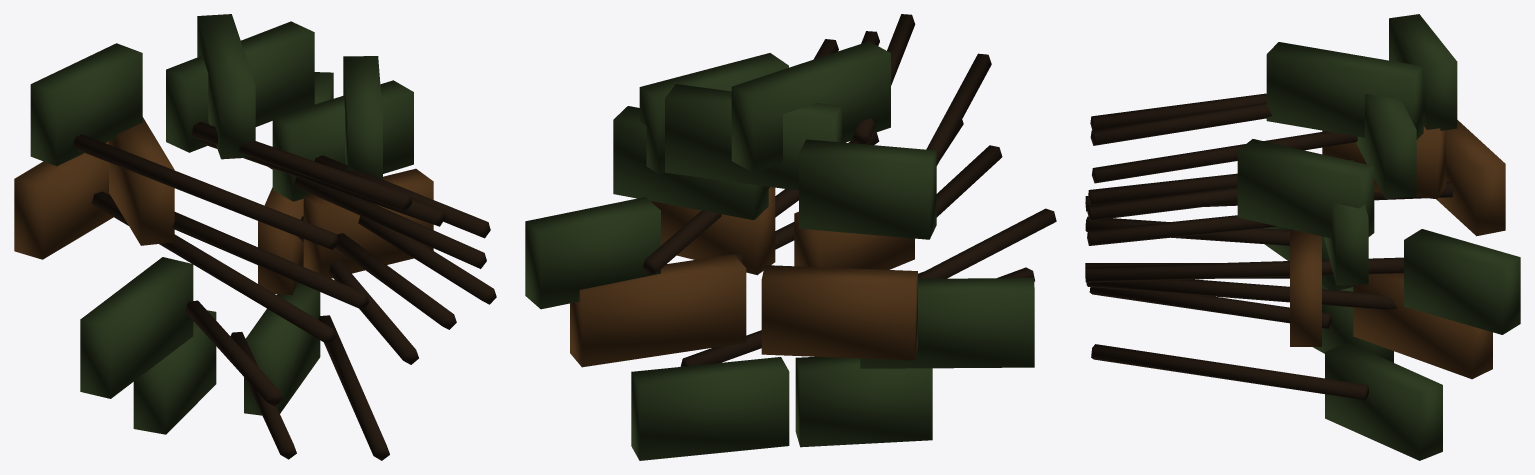
File: prop_preview_blight_shrub_t1.glb
3 views of the same model, side by side, from view 1: azimuth 30°, elevation 25°; view 2: azimuth 150°, elevation 25°; view 3: azimuth 270°, elevation 25° (orthographic). The views are drawn at different scales.
Parts seen in each view (by area): view 1: matted_leaf_5, matted_leaf_3, matted_leaf_2, matted_leaf_4, matted_leaf_1, matted_leaf_11, matted_leaf_6, matted_leaf_7, matted_leaf_12, matted_leaf_0, crooked_stem_3, matted_leaf_10 (+14 smaller); view 2: matted_leaf_8, matted_leaf_7, matted_leaf_4, matted_leaf_3, matted_leaf_11, matted_leaf_6, matted_leaf_5, matted_leaf_9, matted_leaf_2, matted_leaf_1, matted_leaf_0, matted_leaf_12 (+8 smaller); view 3: matted_leaf_11, matted_leaf_10, matted_leaf_9, matted_leaf_7, matted_leaf_8, matted_leaf_4, matted_leaf_3, matted_leaf_2, crooked_stem_7, crooked_stem_9, crooked_stem_8, matted_leaf_0 (+14 smaller).
Part boxes in pixels (bbox=[...]): matted_leaf_5: bbox=[80, 257, 193, 398]; matted_leaf_3: bbox=[30, 43, 142, 166]; matted_leaf_2: bbox=[166, 21, 314, 152]; matted_leaf_4: bbox=[14, 141, 113, 259]; matted_leaf_1: bbox=[272, 80, 413, 201]; matted_leaf_11: bbox=[197, 14, 255, 159]; matted_leaf_6: bbox=[133, 310, 216, 434]; matted_leaf_7: bbox=[244, 282, 320, 415]; matted_leaf_12: bbox=[109, 117, 174, 245]; matted_leaf_0: bbox=[303, 168, 433, 278]; crooked_stem_3: bbox=[73, 134, 338, 249]; matted_leaf_10: bbox=[343, 56, 382, 179]; matted_leaf_8: bbox=[570, 254, 746, 367]; matted_leaf_7: bbox=[631, 357, 789, 460]; matted_leaf_4: bbox=[761, 265, 917, 360]; matted_leaf_3: bbox=[799, 139, 936, 239]; matted_leaf_11: bbox=[731, 41, 890, 172]; matted_leaf_6: bbox=[795, 356, 932, 447]; matted_leaf_5: bbox=[860, 278, 1034, 368]; matted_leaf_9: bbox=[525, 197, 660, 309]; matted_leaf_2: bbox=[665, 84, 841, 190]; matted_leaf_1: bbox=[613, 106, 768, 220]; matted_leaf_0: bbox=[650, 187, 775, 275]; matted_leaf_12: bbox=[794, 211, 914, 269]; matted_leaf_11: bbox=[1266, 42, 1423, 139]; matted_leaf_10: bbox=[1237, 139, 1374, 238]; matted_leaf_9: bbox=[1404, 229, 1520, 334]; matted_leaf_7: bbox=[1325, 342, 1442, 460]; matted_leaf_8: bbox=[1353, 273, 1492, 379]; matted_leaf_4: bbox=[1436, 120, 1505, 236]; matted_leaf_3: bbox=[1389, 14, 1457, 130]; matted_leaf_2: bbox=[1356, 94, 1416, 198]; crooked_stem_7: bbox=[1091, 344, 1368, 400]; crooked_stem_9: bbox=[1085, 257, 1403, 282]; crooked_stem_8: bbox=[1086, 279, 1396, 309]; matted_leaf_0: bbox=[1290, 230, 1321, 346].
Bounding box in the file's own units: 0.8668 × 0.8163 × 0.9473.
